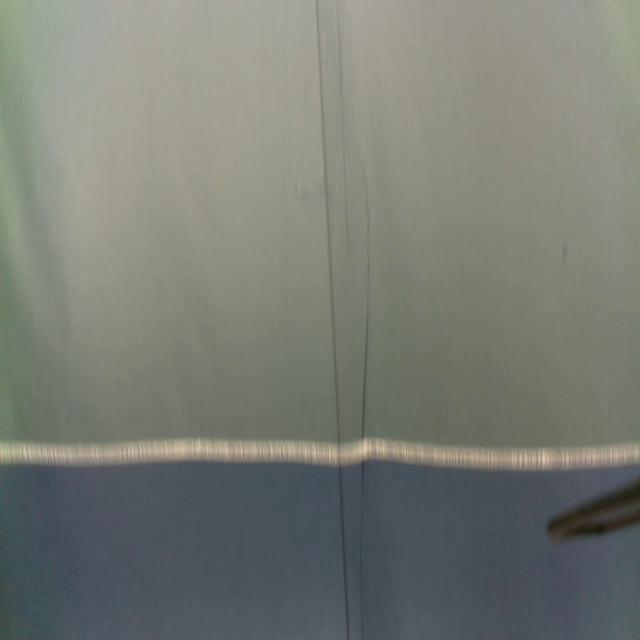crease: (314, 1, 351, 640), (358, 167, 373, 640), (332, 0, 350, 255)
